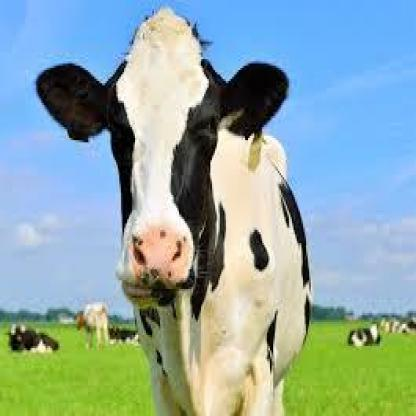cow: (37, 11, 311, 414), (5, 323, 59, 356), (75, 302, 110, 350), (347, 325, 380, 347), (109, 327, 139, 347)
